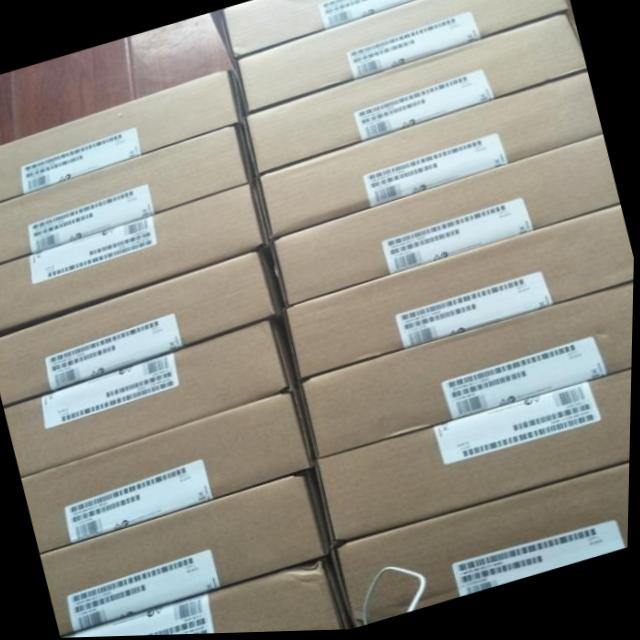box: (270, 135, 621, 308), (287, 207, 635, 381), (255, 72, 603, 242), (301, 283, 635, 460), (245, 14, 587, 178), (318, 371, 633, 548), (42, 469, 335, 637), (335, 465, 632, 630), (23, 388, 318, 554), (5, 315, 303, 477), (0, 247, 289, 407), (0, 182, 271, 336), (233, 0, 569, 114), (0, 122, 255, 263), (0, 69, 245, 202), (64, 558, 356, 638), (221, 0, 419, 60), (369, 571, 421, 625)
